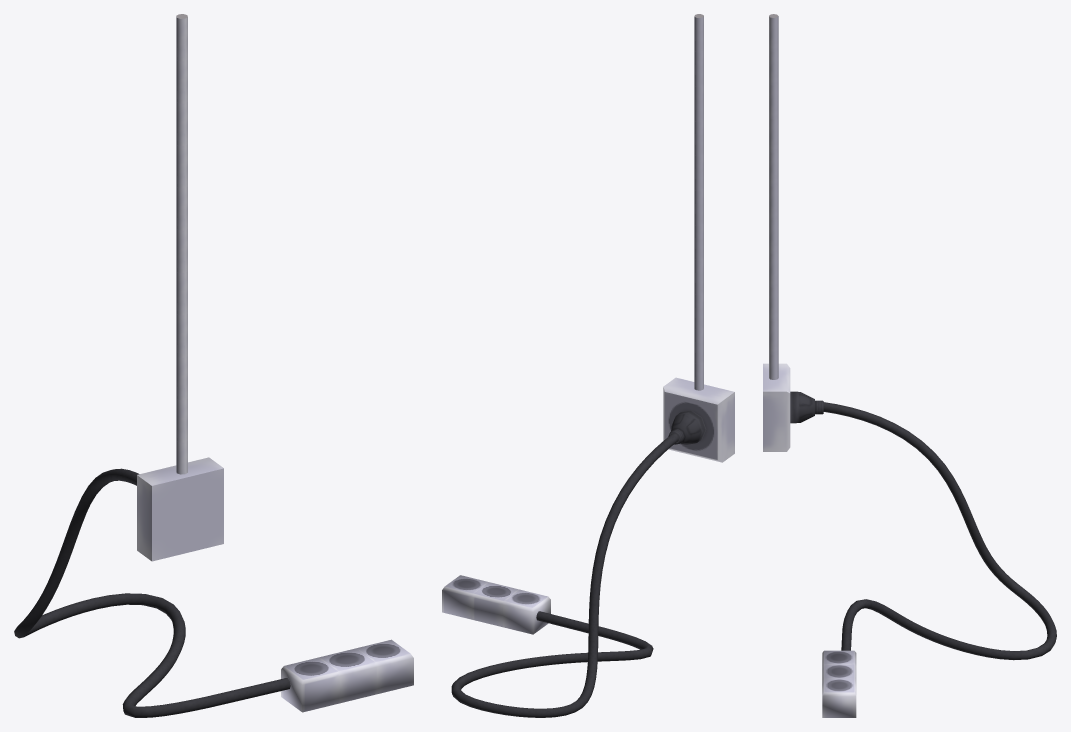
Rendered from cableInteraction.fbx.
3 renders of one model, left to right at view 1: azimuth 30°, elevation 25°; view 2: azimuth 150°, elevation 25°; view 3: azimuth 270°, elevation 25°, orthographic. The views are drawn at different scales.
Parts seen in each view (by area): view 1: Cylinder.004; view 2: Cylinder.004; view 3: Cylinder.004.
Boxes of the visible parts, x1,y1,x2,y2 form: Cylinder.004: [14, 14, 413, 717]; Cylinder.004: [442, 14, 734, 717]; Cylinder.004: [763, 14, 1056, 717].
Size of the model in its own units: 71.82 by 173 by 76.89.
